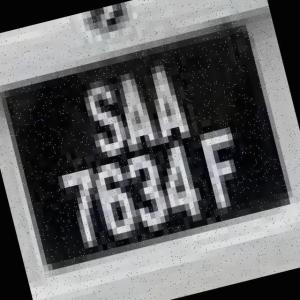Plate: (0, 19, 295, 272)
